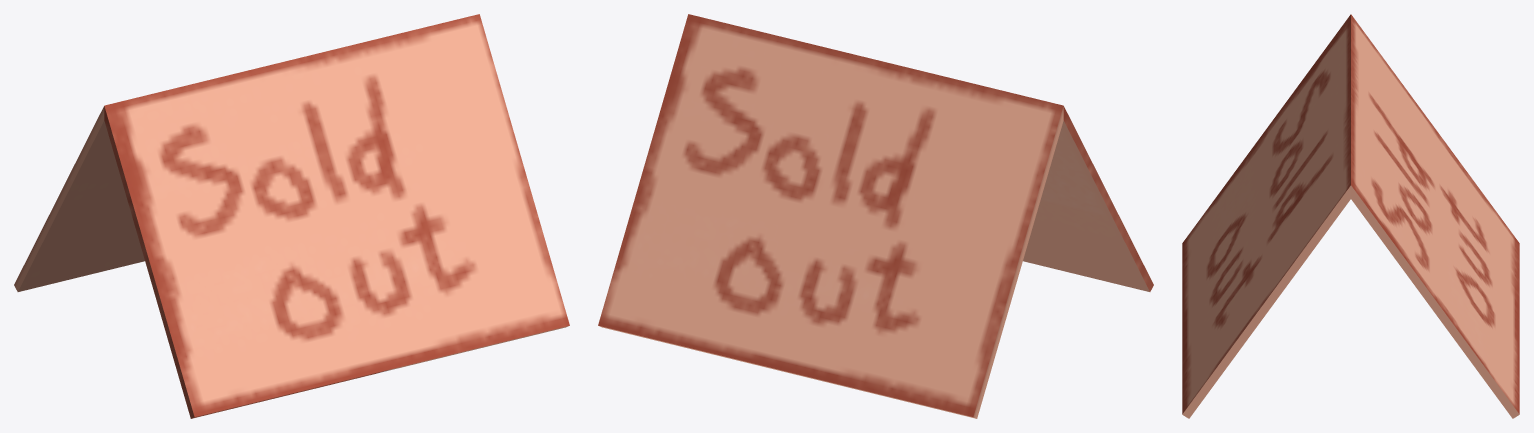
The model's file is sold_out.fbx.
3 views of the same model, side by side, from view 1: azimuth 30°, elevation 25°; view 2: azimuth 150°, elevation 25°; view 3: azimuth 270°, elevation 25° (orthographic). The views are drawn at different scales.
Parts seen in each view (by area): view 1: Cube.002; view 2: Cube.002; view 3: Cube.002.
Part boxes in pixels (bbox=[...]): Cube.002: bbox=[14, 14, 569, 418]; Cube.002: bbox=[598, 14, 1153, 418]; Cube.002: bbox=[1182, 14, 1519, 418].
Bounding box in the file's own units: 15.36 × 9.78 × 12.8.
